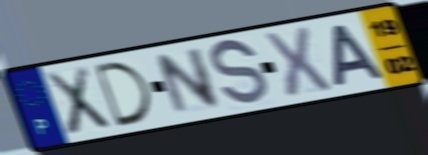A: (330, 22, 389, 89)
D: (90, 59, 154, 130)
N: (153, 45, 224, 119)
S: (209, 36, 270, 110)
X: (260, 25, 336, 102), (41, 64, 114, 138)
